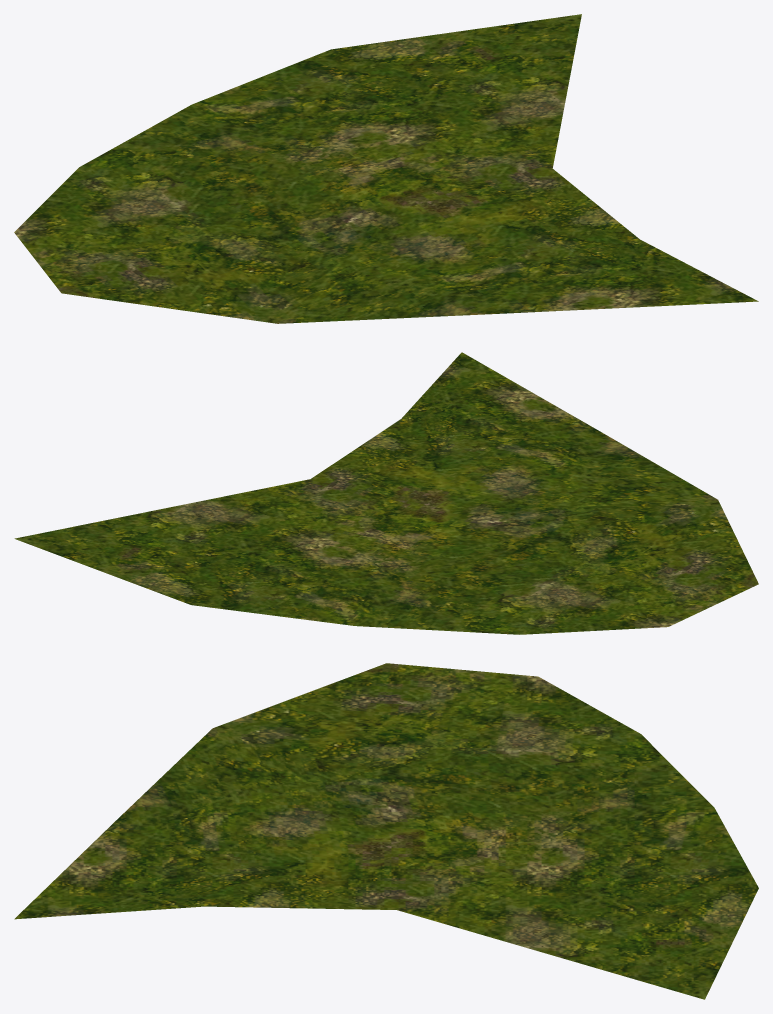
Rendered from OVERHILL_A_01_OBJECT04.fbx.
The picture shows the model from 3 angles, top to bottom: view 1: azimuth 30°, elevation 25°; view 2: azimuth 150°, elevation 25°; view 3: azimuth 270°, elevation 25°; orthographic projection. The views are drawn at different scales.
Parts seen in each view (by area): view 1: OVERHILL_A_01_OBJECT04; view 2: OVERHILL_A_01_OBJECT04; view 3: OVERHILL_A_01_OBJECT04.
Part boxes in pixels (left/top/right/bottom): OVERHILL_A_01_OBJECT04: left=14, top=14, right=758, bottom=323; OVERHILL_A_01_OBJECT04: left=14, top=352, right=758, bottom=634; OVERHILL_A_01_OBJECT04: left=14, top=663, right=758, bottom=999.
Bounding box in the file's own units: 34800 × 0.0508 × 32544.
Materials: 1 (1 with a texture image).
